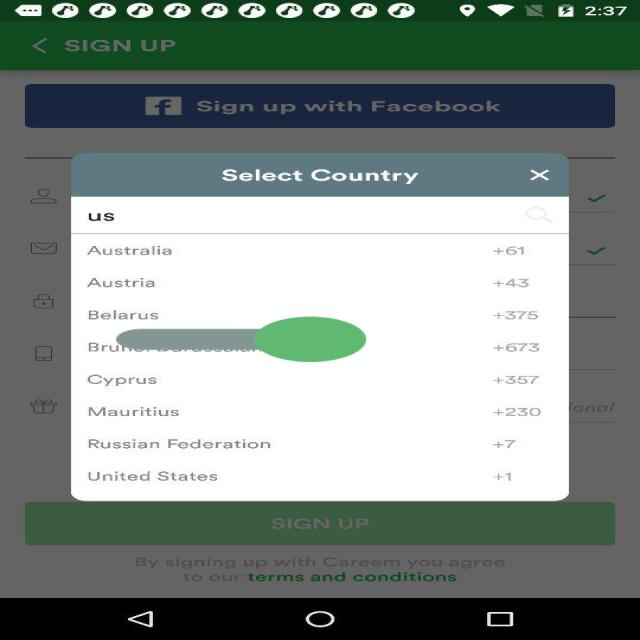social proof: (116, 289, 366, 390)
